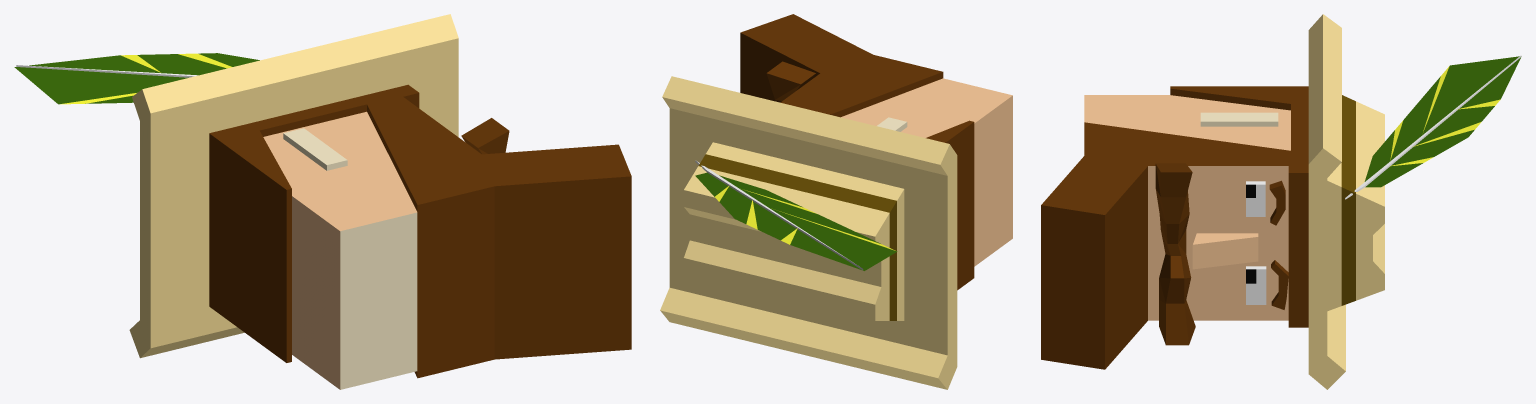
File: char woodchopper.dae
3 renders of one model, left to right at view 1: azimuth 30°, elevation 25°; view 2: azimuth 150°, elevation 25°; view 3: azimuth 270°, elevation 25°, orthographic. The views are drawn at different scales.
Parts seen in each view (by area): view 1: head_1 (×5), hat, fether (×3); view 2: hat (×4), head_1 (×3), fether (×3); view 3: head_1 (×10), hat (×4), fether (×3).
Boxes of the visible parts, box(x1,y1,x2,y2) form: head_1 (×5): box(209, 84, 631, 389); hat: box(129, 14, 458, 358); fether (×3): box(14, 53, 259, 104); hat (×4): box(660, 76, 957, 389); head_1 (×3): box(740, 14, 1012, 290); fether (×3): box(695, 160, 897, 270); head_1 (×10): box(1041, 86, 1308, 369); hat (×4): box(1308, 14, 1384, 389); fether (×3): box(1345, 55, 1521, 199).
Bounding box in the file's own units: 0.8558 × 1.08 × 0.5966.
